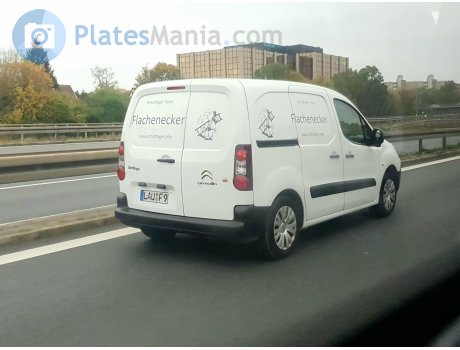License Plates: (139, 182, 174, 198)
